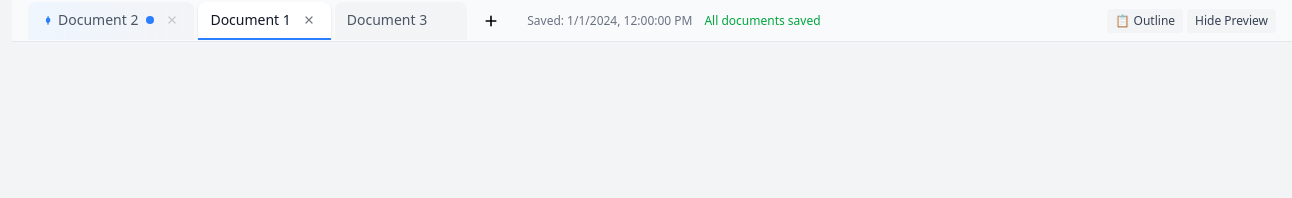
Scenario: TabBar › Tab Pinning Functionality › shows unpin option for pinned tabs in context menu
// Right-click to open context menu
Right-click the element showing "Document 2" at (111, 20), box [28,2,194,40]
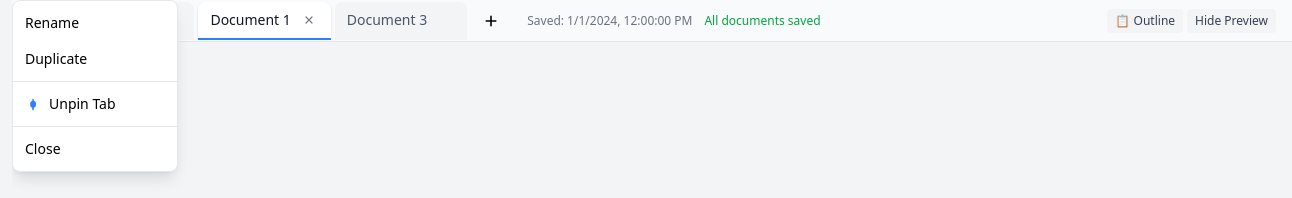
expect the text "Unpin Tab" is shown: met, box [13,86,177,122]
